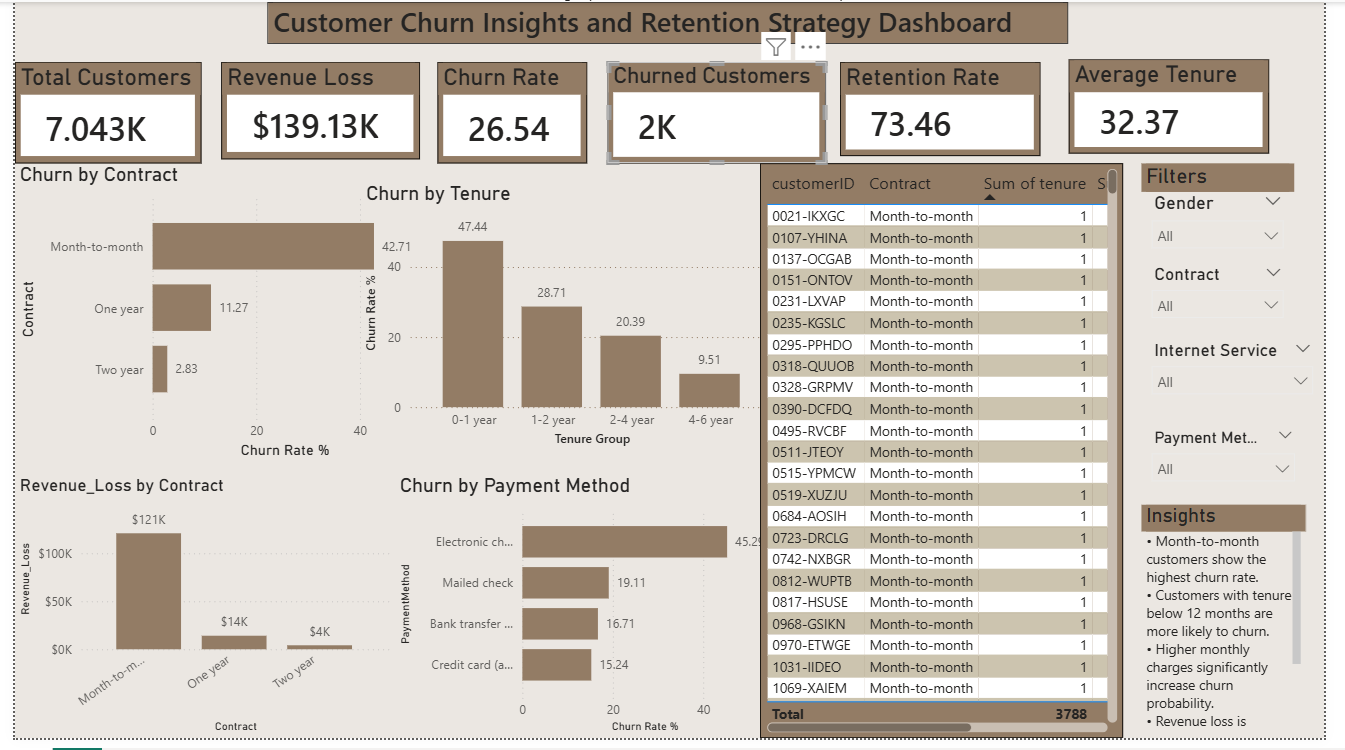

What the dashboard file says about the page in this screenshot:
{"tool":"powerbi","page":{"name":"Page 1","canvas":[1280,720],"ordinal":0},"visuals":[{"type":"cardVisual","title":"Total Customers","fields":{"Data":["churn_data.Total Customers"]},"box":[0,58.7,182.2,99],"z":0},{"type":"cardVisual","title":"Churned Customers","fields":{"Data":["churn_data.Churned Customers"]},"box":[579.6,58.7,214,99],"z":1000},{"type":"cardVisual","title":"Churn Rate","fields":{"Data":["churn_data.Churn Rate"]},"box":[413.3,58.7,146.7,99],"z":2000},{"type":"cardVisual","title":"Retention Rate","fields":{"Data":["churn_data.Retention Rate"]},"box":[806.9,59,196.2,91.9],"z":3000},{"type":"cardVisual","title":"Revenue Loss","fields":{"Data":["churn_data.Revenue_Loss"]},"box":[201.8,58.7,194.4,95.4],"z":4000},{"type":"cardVisual","title":"Average Tenure","fields":{"Data":["churn_data.Average Tenure"]},"box":[1030.5,56.3,196.2,91.9],"z":5000},{"type":"textbox","title":"Customer Churn Insights and Retention Strategy Dashboard","box":[247,0,783.5,41.2],"z":6000},{"type":"barChart","title":"Churn by Contract","fields":{"Category":["churn_data.Contract"],"Y":["churn_data.Churn Rate"]},"box":[0,157.8,406.2,293.7],"z":7000},{"type":"clusteredColumnChart","title":"Churn by Tenure","fields":{"Y":["churn_data.Churn Rate"],"Category":["churn_data.Tenure Group"]},"box":[338.9,175.6,408.9,263.5],"z":8000},{"type":"barChart","title":"Churn by Payment Method","fields":{"Y":["churn_data.Churn Rate"],"Category":["churn_data.PaymentMethod"]},"box":[371.9,462.4,377.4,258],"z":9000},{"type":"columnChart","fields":{"Y":["churn_data.Revenue_Loss"],"Category":["churn_data.Contract"]},"box":[0,462.4,371.9,258],"z":10000},{"type":"tableEx","fields":{"Values":["churn_data.customerID","churn_data.Contract","Sum(churn_data.tenure)","Sum(churn_data.MonthlyCharges)","churn_data.Churn"]},"box":[728.6,157.8,355.4,562.6],"z":11000},{"type":"slicer","title":"Filters","fields":{"Values":["churn_data.gender"]},"box":[1101.9,157.8,149.6,93.3],"z":12000},{"type":"slicer","fields":{"Values":["churn_data.Contract"]},"box":[1101.9,251.1,149.6,71.4],"z":13000},{"type":"slicer","fields":{"Values":["churn_data.InternetService"]},"box":[1101.9,325.2,178.4,68.6],"z":14000},{"type":"slicer","fields":{"Values":["churn_data.PaymentMethod"]},"box":[1101.9,411.7,160.5,79.6],"z":15000},{"type":"textbox","title":"Insights","box":[1102,492,161,228],"z":16000}]}

Visuals, with their boxes in screenshot pixels (x1, y1, x2, y2):
"Total Customers" cardVisual: rect(7, 57, 194, 158)
"Churned Customers" cardVisual: rect(602, 57, 822, 158)
"Churn Rate" cardVisual: rect(431, 57, 582, 158)
"Retention Rate" cardVisual: rect(835, 57, 1037, 151)
"Revenue Loss" cardVisual: rect(214, 57, 414, 155)
"Average Tenure" cardVisual: rect(1065, 54, 1266, 149)
"Customer Churn Insights and Retention Strategy Dashboard" textbox: rect(261, 0, 1065, 39)
"Churn by Contract" barChart: rect(7, 159, 424, 460)
"Churn by Tenure" clusteredColumnChart: rect(355, 177, 775, 447)
"Churn by Payment Method" barChart: rect(389, 471, 776, 736)
columnChart - churn_data.Revenue_Loss x churn_data.Contract: rect(7, 471, 389, 736)
tableEx - churn_data.customerID x churn_data.Contract: rect(755, 159, 1120, 736)
"Filters" slicer: rect(1138, 159, 1292, 254)
slicer - churn_data.Contract: rect(1138, 254, 1292, 328)
slicer - churn_data.InternetService: rect(1138, 330, 1321, 401)
slicer - churn_data.PaymentMethod: rect(1138, 419, 1303, 501)
"Insights" textbox: rect(1138, 502, 1304, 736)
